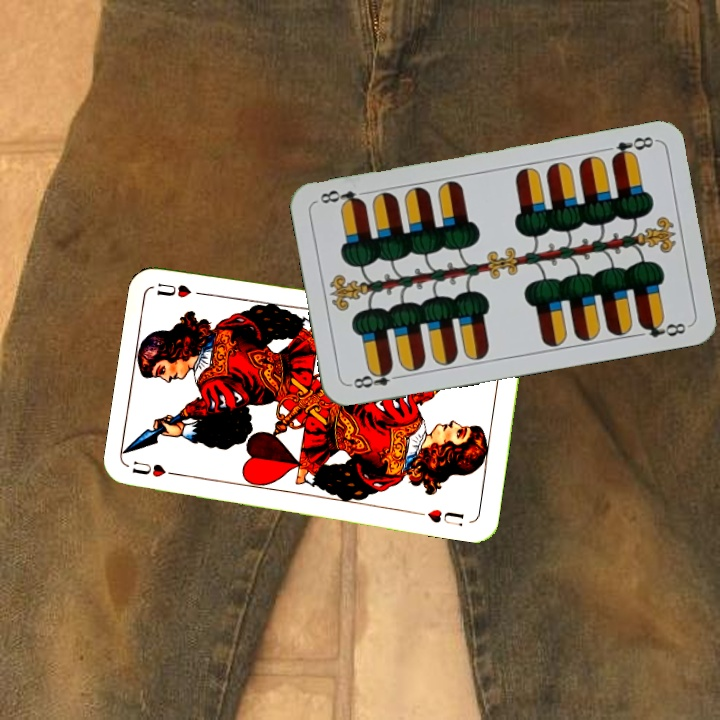E8: (346, 363, 405, 391), (607, 132, 657, 163)
HU: (128, 457, 186, 480)
